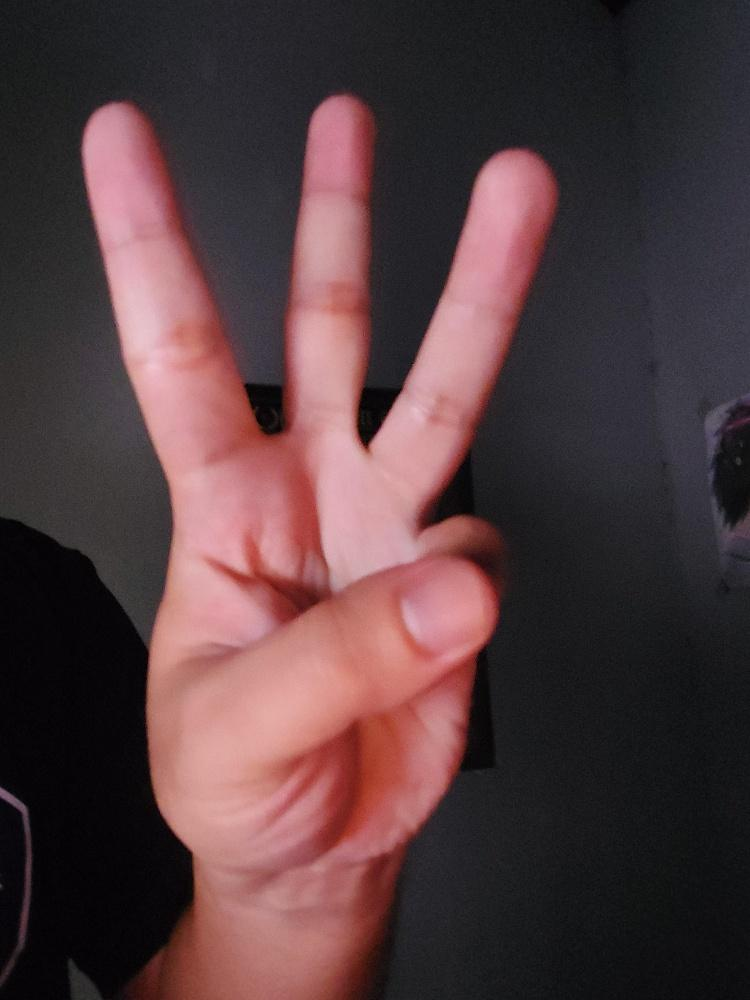w: (80, 94, 555, 885)
